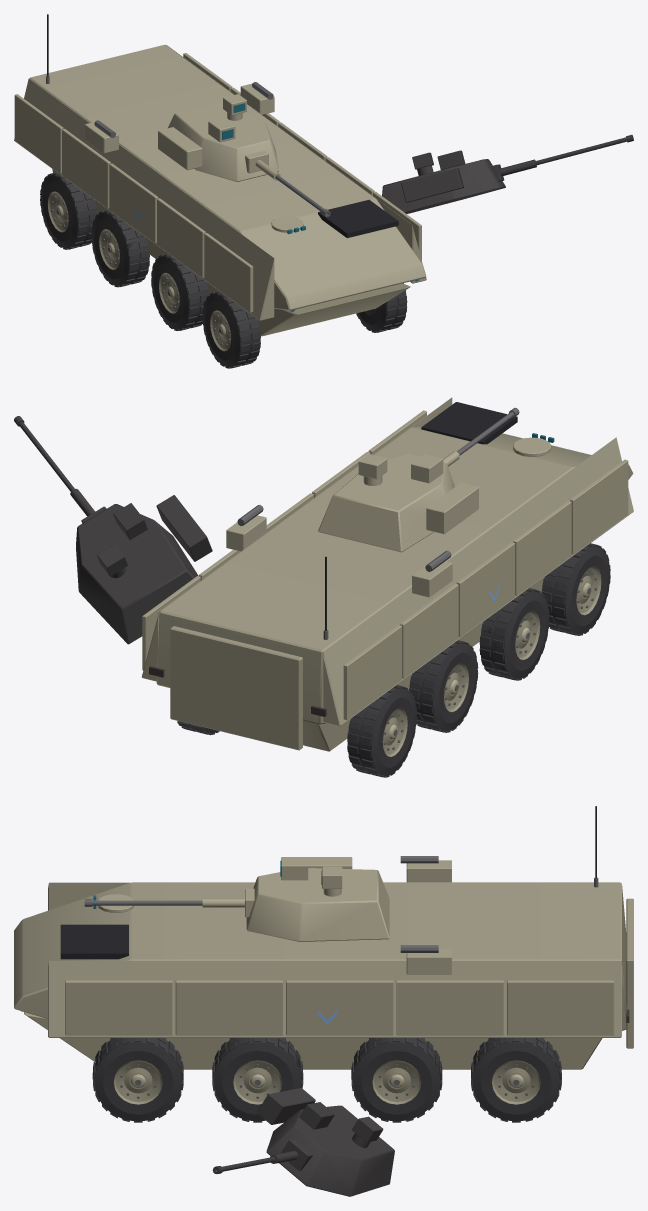
The model's file is apc__eitan_series_2023.glb.
3 renders of one model, top to bottom at view 1: azimuth 30°, elevation 25°; view 2: azimuth 150°, elevation 25°; view 3: azimuth 270°, elevation 25°, orthographic. The views are drawn at different scales.
Parts seen in each view (by area): view 1: Hull_Mesh, Turret_Mesh, Wreck, Wheel_L3_Mesh, Wheel_L1_Mesh, Wheel_L2_Mesh, Wheel_L0_Mesh, Wheel_R3_Mesh, Gun_Mesh; view 2: Hull_Mesh, Wreck, Turret_Mesh, Wheel_L0_Mesh, Wheel_L2_Mesh, Wheel_L3_Mesh, Wheel_L1_Mesh, Gun_Mesh; view 3: Hull_Mesh, Turret_Mesh, Wreck, Wheel_R3_Mesh, Wheel_R1_Mesh, Wheel_R0_Mesh, Wheel_R2_Mesh, Gun_Mesh.
Boxes of the visible parts, left/top/right/bottom form: Hull_Mesh: left=14, top=14, right=426, bottom=336; Turret_Mesh: left=158, top=94, right=278, bottom=181; Wreck: left=52, top=134, right=633, bottom=329; Wheel_L3_Mesh: left=202, top=291, right=260, bottom=368; Wheel_L1_Mesh: left=91, top=209, right=149, bottom=287; Wheel_L2_Mesh: left=151, top=253, right=209, bottom=330; Wheel_L0_Mesh: left=40, top=172, right=98, bottom=249; Wheel_R3_Mesh: left=356, top=283, right=407, bottom=332; Gun_Mesh: left=245, top=150, right=330, bottom=217; Hull_Mesh: left=142, top=397, right=633, bottom=751; Wreck: left=14, top=416, right=576, bottom=768; Turret_Mesh: left=318, top=454, right=478, bottom=552; Wheel_L0_Mesh: left=347, top=685, right=416, bottom=777; Wheel_L2_Mesh: left=479, top=588, right=549, bottom=680; Wheel_L3_Mesh: left=541, top=543, right=610, bottom=635; Wheel_L1_Mesh: left=409, top=640, right=478, bottom=732; Gun_Mesh: left=443, top=407, right=519, bottom=466; Hull_Mesh: left=14, top=806, right=633, bottom=1069; Turret_Mesh: left=246, top=857, right=389, bottom=941; Wreck: left=110, top=1057, right=518, bottom=1196; Wheel_R3_Mesh: left=92, top=1038, right=183, bottom=1122; Wheel_R1_Mesh: left=351, top=1038, right=442, bottom=1122; Wheel_R0_Mesh: left=471, top=1038, right=561, bottom=1122; Wheel_R2_Mesh: left=212, top=1038, right=303, bottom=1122; Gun_Mesh: left=84, top=888, right=254, bottom=917.
Size of what is drawn, in the model's own units: 7.99 by 3.43 by 8.2.
